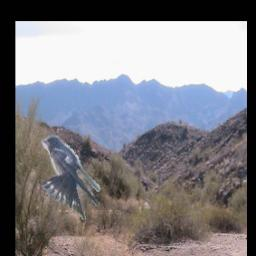Swallow: (41, 136, 100, 220)
